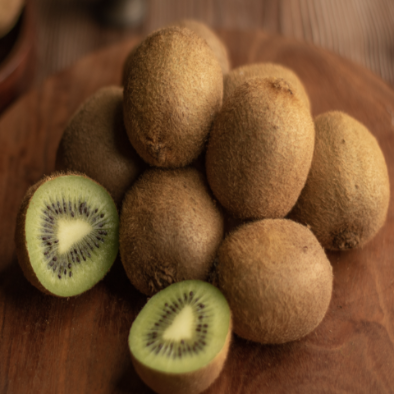kiwi: (198, 217, 345, 340), (193, 72, 318, 215), (105, 164, 227, 303), (112, 18, 225, 163), (292, 109, 391, 266)
